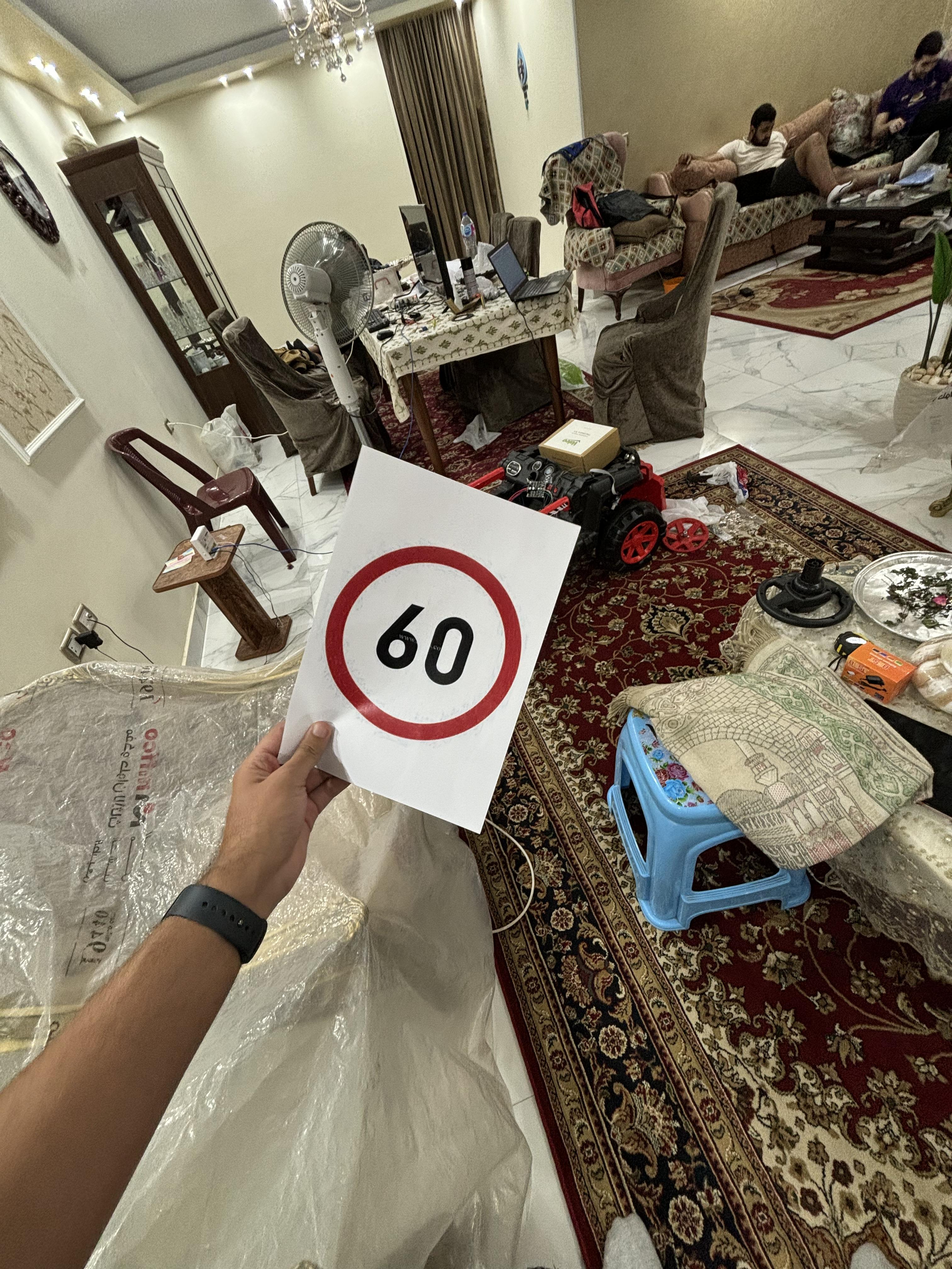60-Speed: (324, 541, 527, 742)
